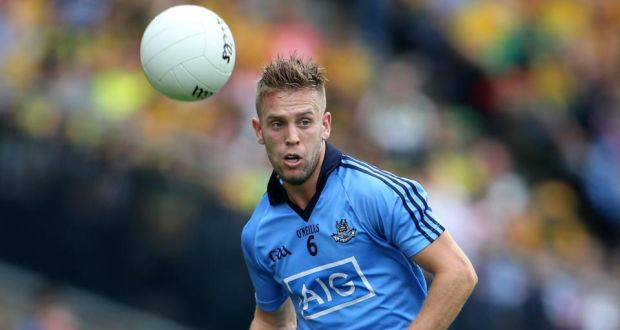ball: (137, 7, 234, 107)
player: (240, 54, 454, 323)
